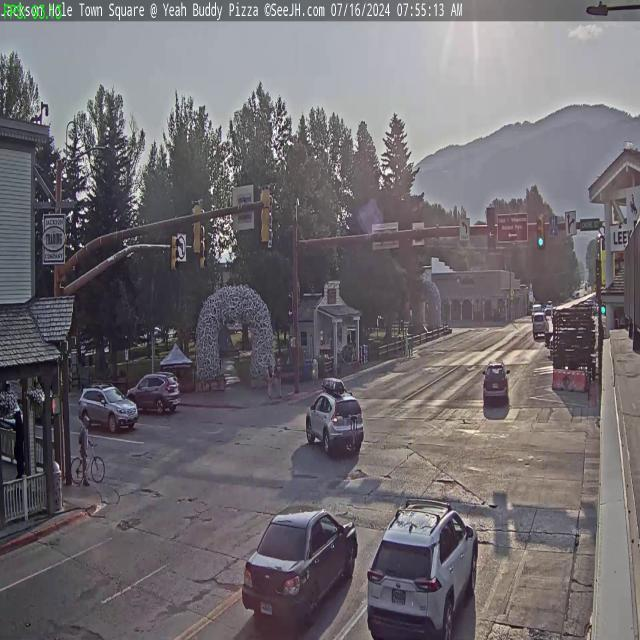bike: (68, 442, 105, 485)
person: (13, 411, 24, 486), (78, 404, 88, 474), (276, 356, 283, 400), (266, 364, 273, 404)
sedan: (240, 503, 366, 640)
suv: (364, 494, 482, 640), (306, 384, 365, 457), (80, 382, 138, 436), (126, 369, 180, 416), (482, 359, 509, 404)
traffic light: (190, 199, 203, 256), (260, 184, 272, 244), (486, 208, 496, 252), (536, 214, 546, 248), (170, 236, 178, 272)
